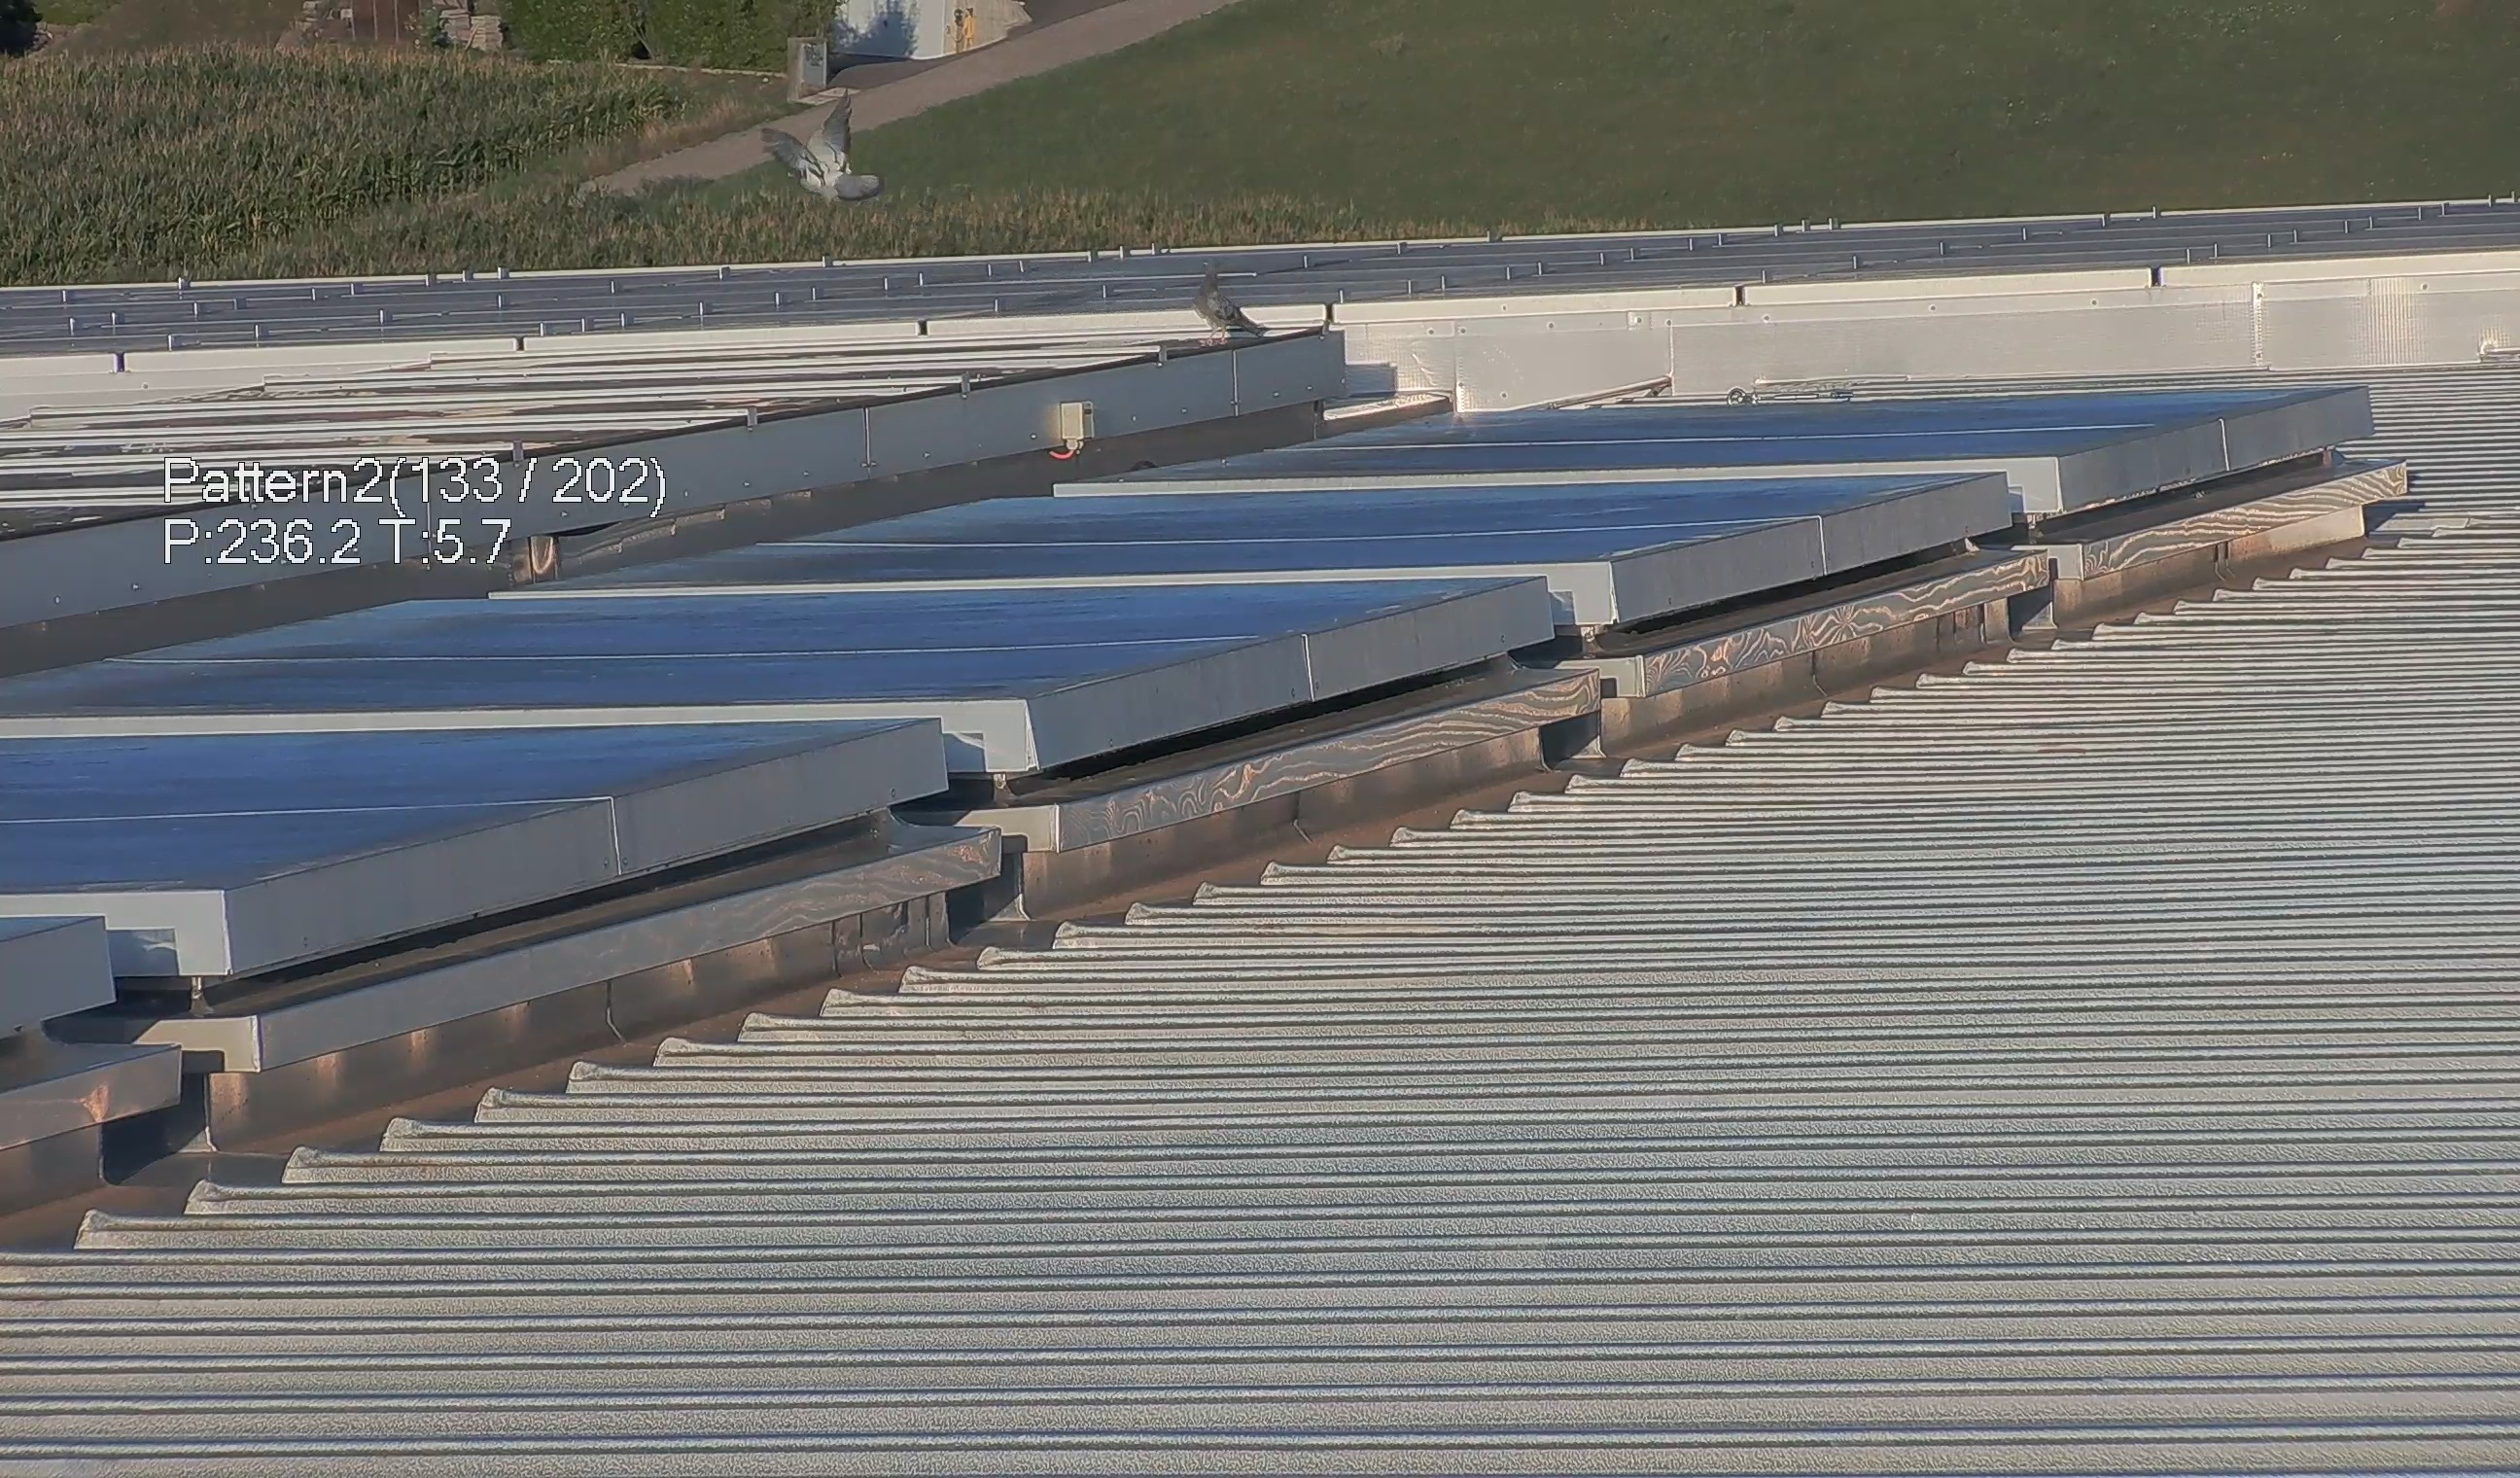Pigeon: (758, 90, 879, 215), (1182, 271, 1282, 345)
